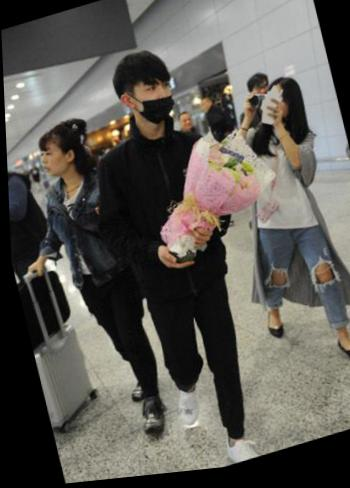NONE: (35, 143, 70, 184), (180, 119, 194, 136)
WRONG: (131, 73, 180, 130)
